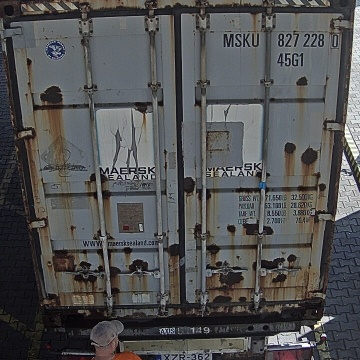serial_id: (223, 33, 340, 47)
